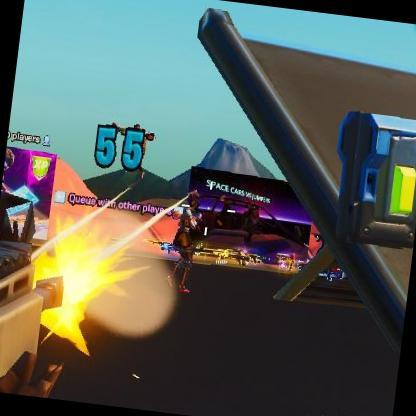person: (164, 206, 217, 296)
